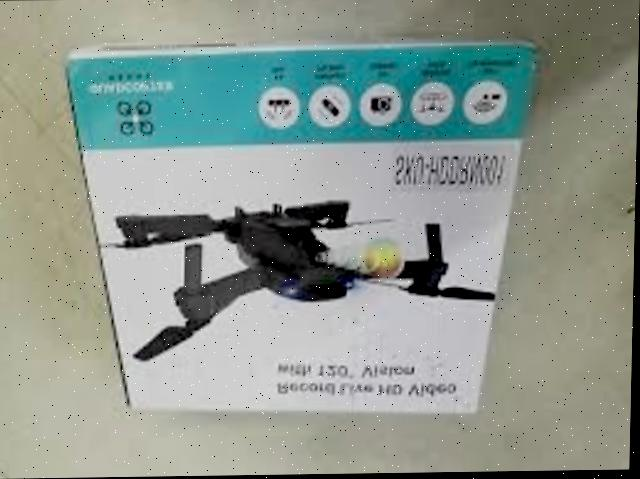drone: (102, 166, 502, 365)
